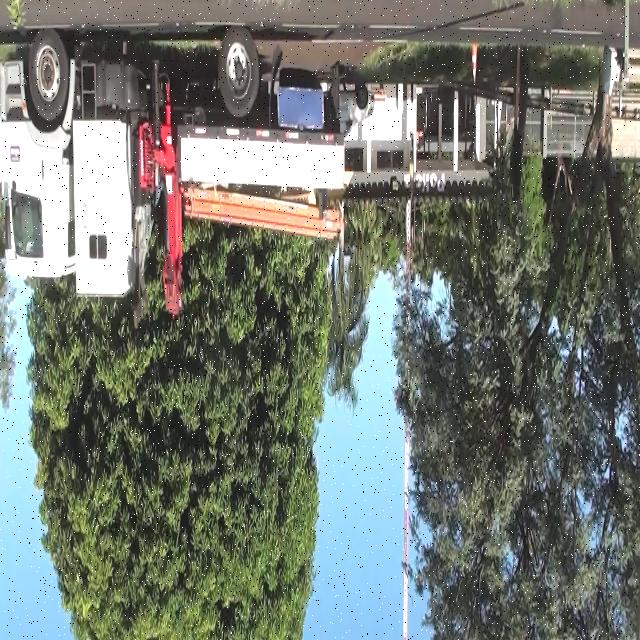-axle: (217, 27, 260, 118), (28, 28, 70, 121)
